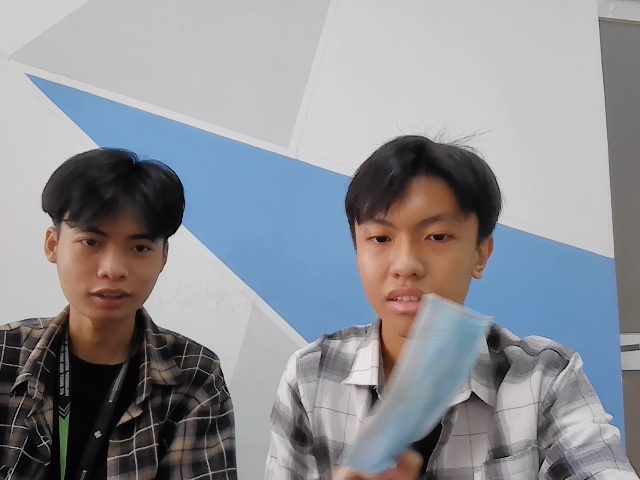human: (345, 137, 497, 333), (46, 152, 186, 317)
mask: (333, 287, 504, 475)
